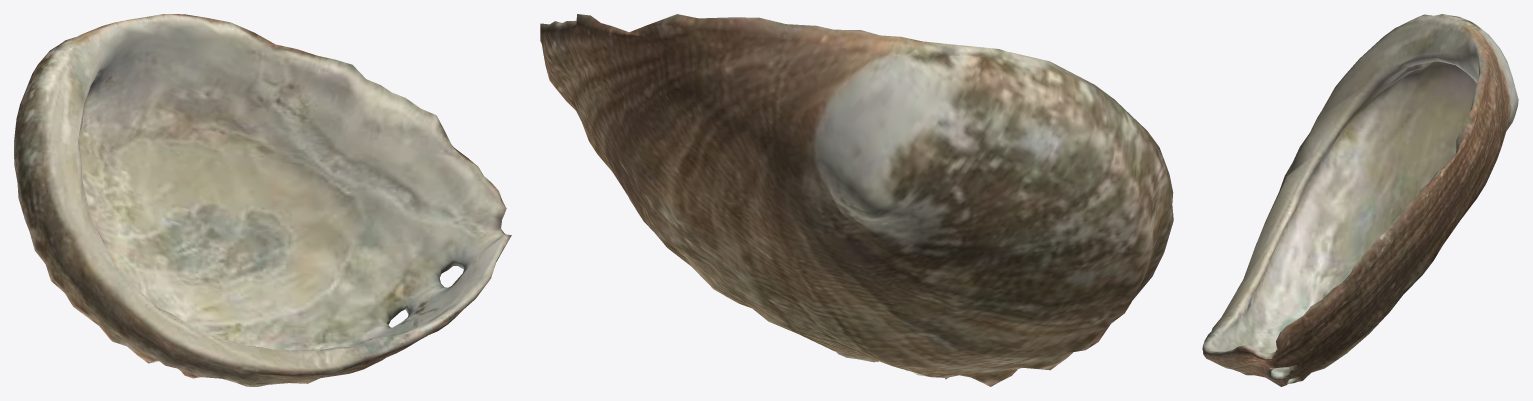
The model's file is abalone.glb.
3 views of the same model, side by side, from view 1: azimuth 30°, elevation 25°; view 2: azimuth 150°, elevation 25°; view 3: azimuth 270°, elevation 25° (orthographic). The views are drawn at different scales.
Visible parts, largest first — view 1: IridescenceAbalone; view 2: IridescenceAbalone; view 3: IridescenceAbalone.
Boxes of the visible parts, left/top/right/bottom form: IridescenceAbalone: left=14, top=14, right=511, bottom=386; IridescenceAbalone: left=540, top=14, right=1173, bottom=386; IridescenceAbalone: left=1202, top=14, right=1518, bottom=386.
Size of the model in its own units: 0.2319 by 0.1556 by 0.1584.
1 material, 1 textured.
